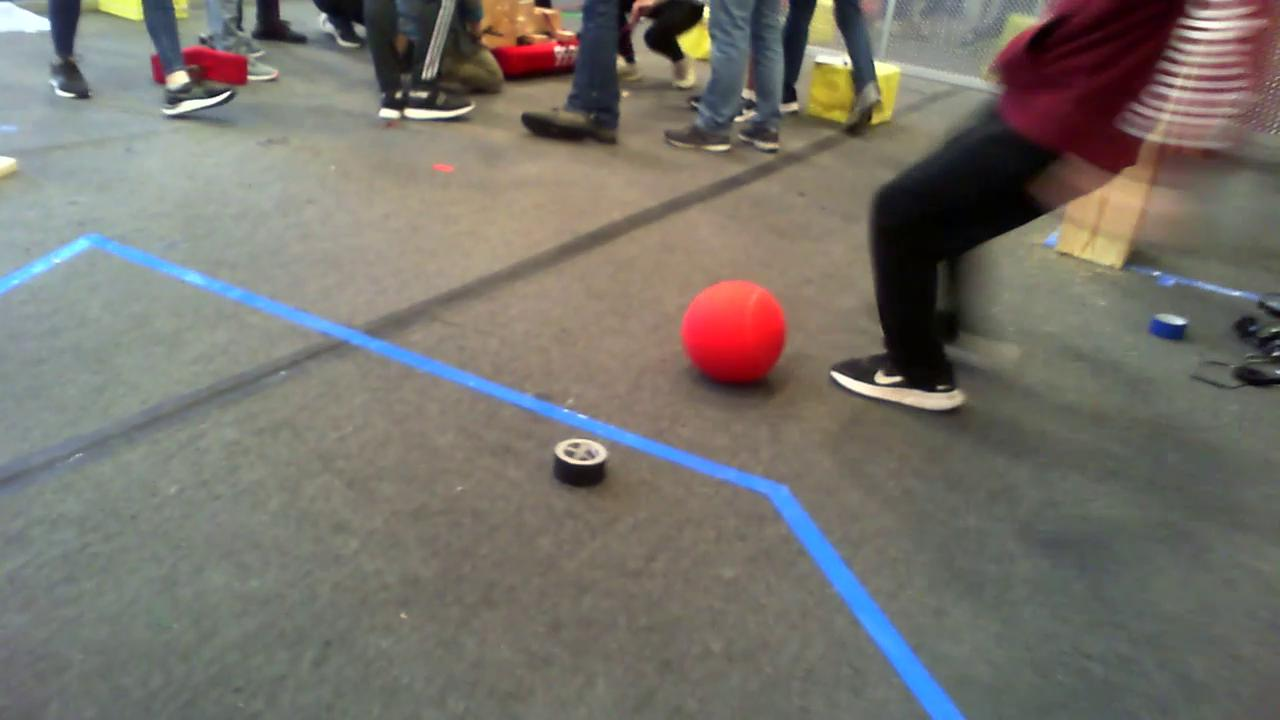Red_Ball: (651, 267, 815, 393)
